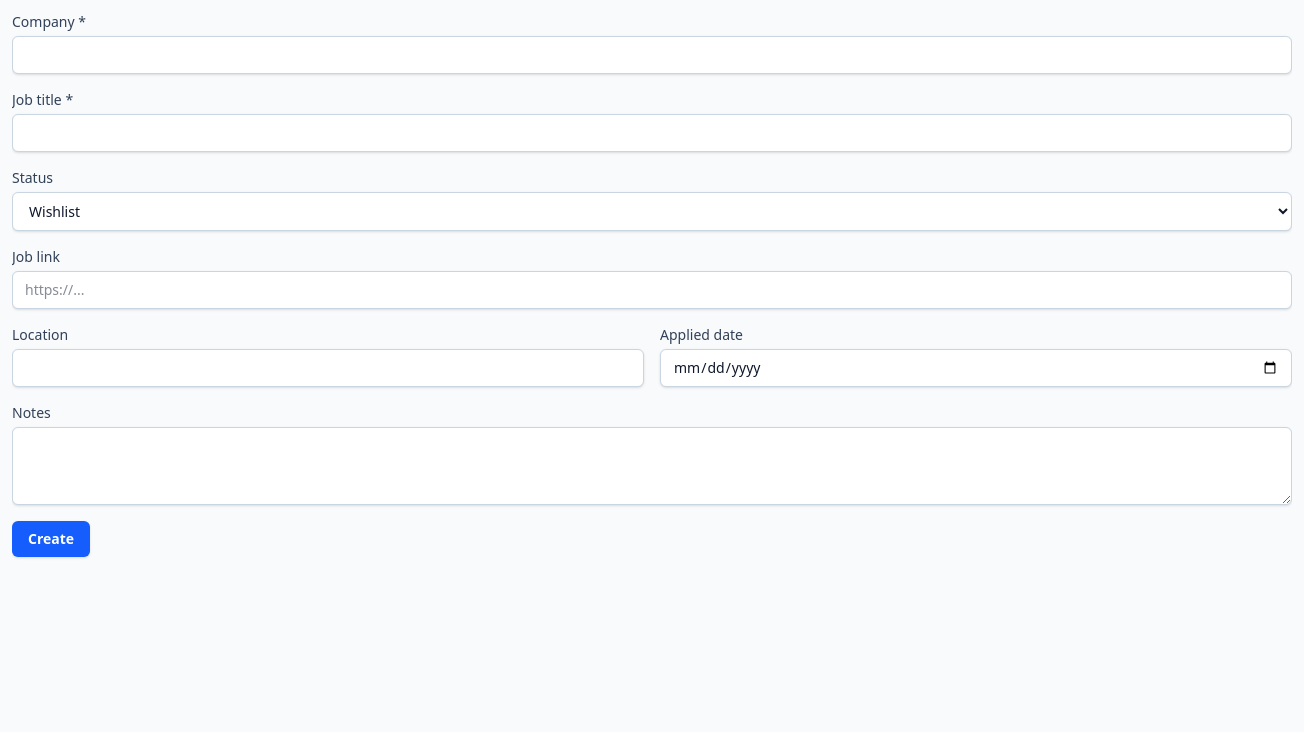
ApplicationForm › shows validation messages and sends nothing when required fields are empty
Click the button "Create".
click(51, 539)  # box [12, 521, 90, 557]
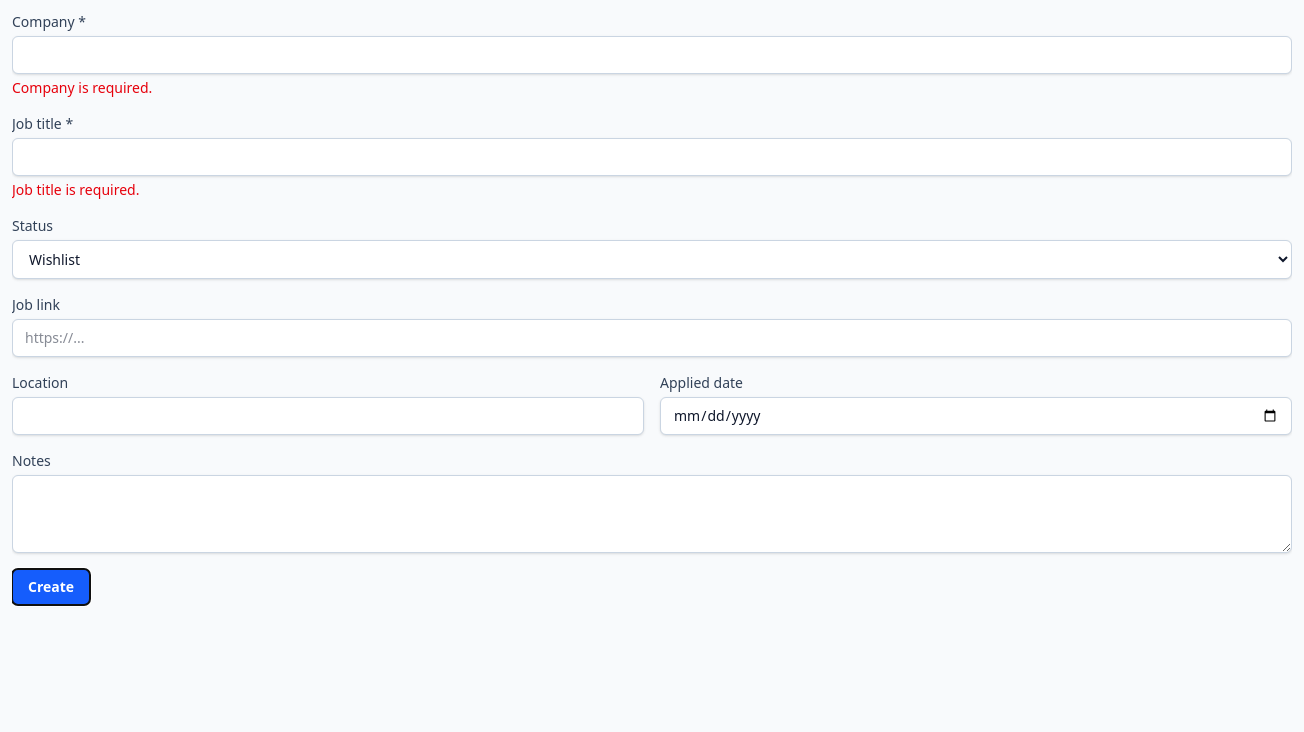
Now the text "Company is required." is shown, box [12, 78, 152, 97]
Now the text "Job title is required." is shown, box [12, 180, 139, 199]
